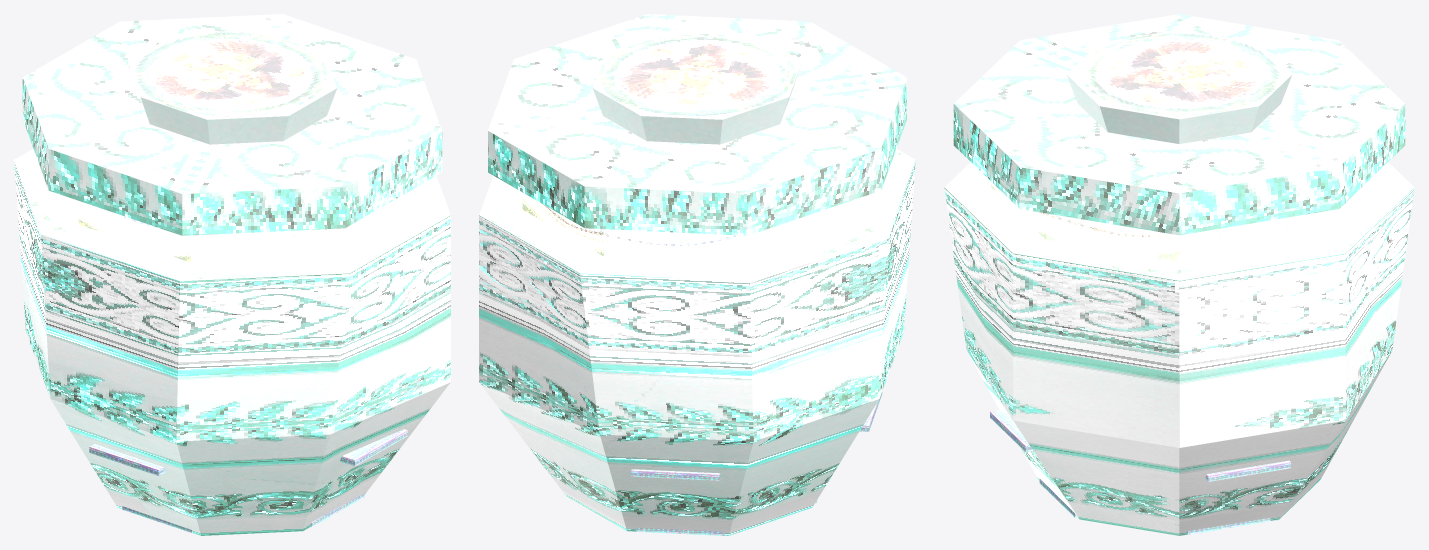
Rendered from urn_interior.glb.
3 views of the same model, side by side, from view 1: azimuth 30°, elevation 25°; view 2: azimuth 150°, elevation 25°; view 3: azimuth 270°, elevation 25° (orthographic).
Parts seen in each view (by area): view 1: Urn_Interior, Urn_Wall.002, Urn_Wall.001; view 2: Urn_Interior, Urn_Wall; view 3: Urn_Interior, Urn_Wall.003, Urn_Wall.002.
Part boxes in pixels (<box>): Urn_Interior: <box>14,14,450,535</box>; Urn_Wall.002: <box>309,429,407,527</box>; Urn_Wall.001: <box>89,444,192,532</box>; Urn_Interior: <box>479,14,915,535</box>; Urn_Wall: <box>631,469,724,535</box>; Urn_Interior: <box>944,14,1414,535</box>; Urn_Wall.003: <box>1187,460,1290,534</box>; Urn_Wall.002: <box>990,409,1077,517</box>.
Size of the model in its own units: 19.89 by 20.14 by 21.13.
